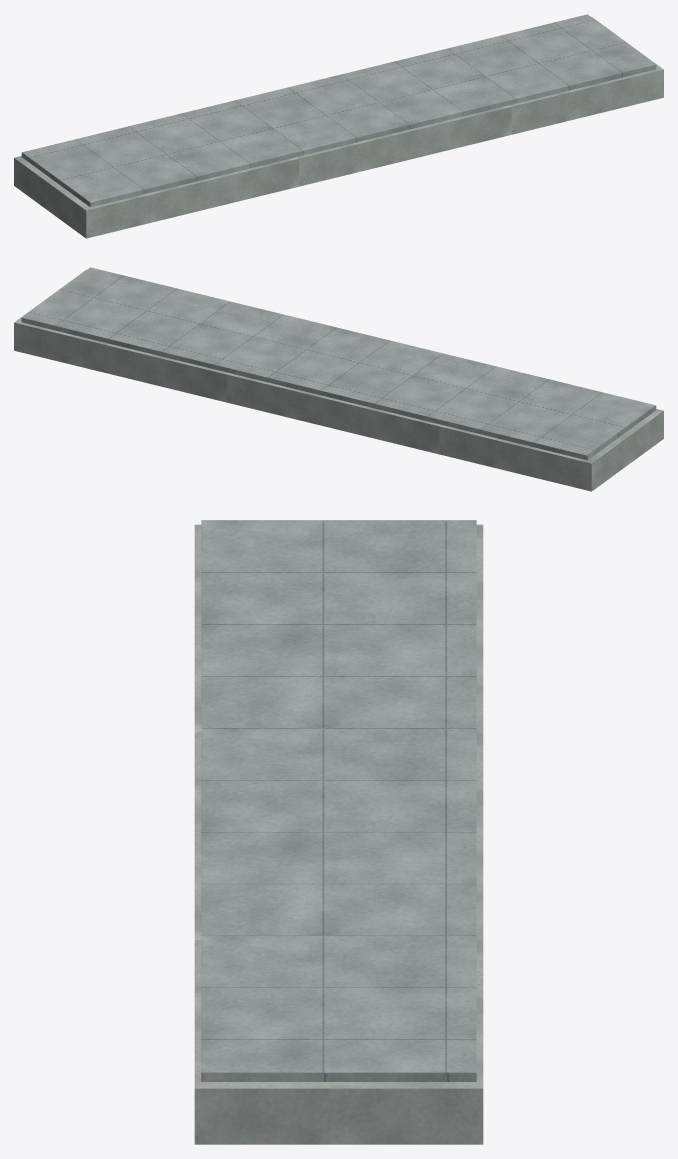
The model's file is Stair_Level_Landing.glb.
The picture shows the model from 3 angles, top to bottom: view 1: azimuth 30°, elevation 25°; view 2: azimuth 150°, elevation 25°; view 3: azimuth 270°, elevation 25°; orthographic projection. The views are drawn at different scales.
Visible parts, largest first — view 1: VIS_Storey_Landing_Finish_0001, VIS_Storey_Entry_Landing_0000; view 2: VIS_Storey_Landing_Finish_0001, VIS_Storey_Entry_Landing_0000; view 3: VIS_Storey_Landing_Finish_0001, VIS_Storey_Entry_Landing_0000.
Part boxes in pixels (x1,y1,x2,y2): VIS_Storey_Landing_Finish_0001: [21, 14, 656, 207]; VIS_Storey_Entry_Landing_0000: [14, 17, 663, 238]; VIS_Storey_Landing_Finish_0001: [21, 267, 656, 460]; VIS_Storey_Entry_Landing_0000: [14, 270, 663, 491]; VIS_Storey_Landing_Finish_0001: [201, 520, 476, 1081]; VIS_Storey_Entry_Landing_0000: [194, 524, 483, 1144].
Bounding box in the file's own units: 3.88 × 0.213 × 0.84.
Materials: 2 (2 with a texture image).
